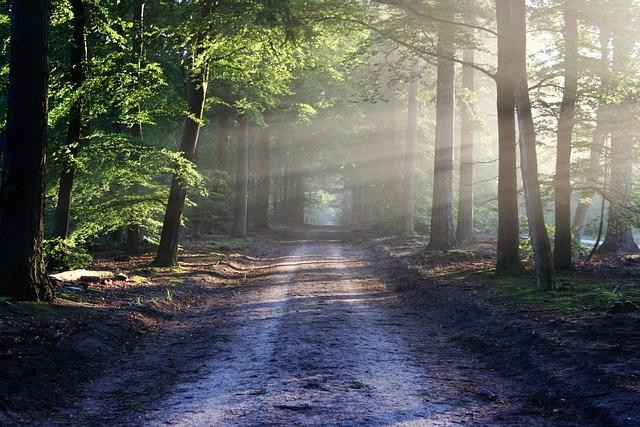Non_Gorille: (1, 5, 640, 422)
